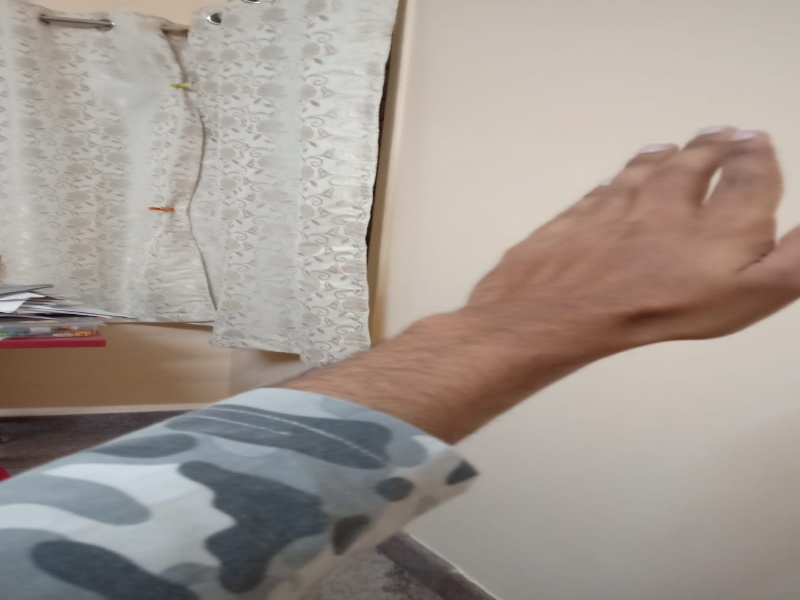Hand: (417, 118, 798, 381)
